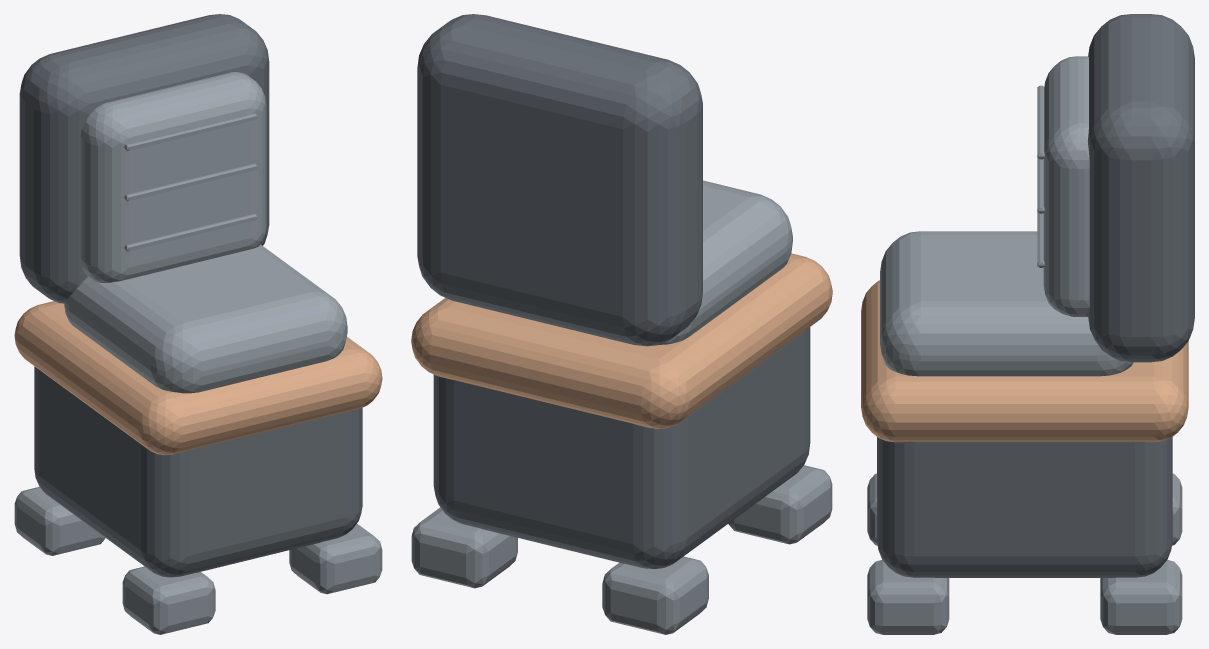
Rendered from dining_chair.glb.
The picture shows the model from 3 angles, left to right: view 1: azimuth 30°, elevation 25°; view 2: azimuth 150°, elevation 25°; view 3: azimuth 270°, elevation 25°; orthographic projection. The views are drawn at different scales.
Visible parts, largest first — view 1: shell_005, back_cushion_009, seat_cushion_007, back_shell_008, seat_frame_006, foot_002, foot_004, foot_001, stitch_012, stitch_010, stitch_011; view 2: back_shell_008, shell_005, seat_frame_006, seat_cushion_007, foot_001, foot_003, foot_002; view 3: shell_005, back_shell_008, seat_cushion_007, seat_frame_006, back_cushion_009, foot_004, foot_003, foot_001, foot_002, stitch_012.
Part boxes in pixels (x1,y1,x2,y2): shell_005: (34,366,362,577); back_cushion_009: (80,72,266,282); seat_cushion_007: (64,244,347,393); back_shell_008: (19,14,269,303); seat_frame_006: (14,301,382,455); foot_002: (122,566,215,634); foot_004: (289,524,382,594); foot_001: (14,487,105,555); stitch_012: (124,113,257,150); stitch_010: (124,213,257,251); stitch_011: (124,163,257,201); back_shell_008: (417,14,702,346); shell_005: (433,327,810,568); seat_frame_006: (411,253,832,428); seat_cushion_007: (659,180,792,344); foot_001: (602,556,708,634); foot_003: (411,507,517,588); foot_002: (728,465,832,544); shell_005: (877,437,1172,577); back_shell_008: (1087,14,1194,362); seat_cushion_007: (880,231,1133,376); seat_frame_006: (861,280,1188,442); back_cushion_009: (1043,56,1089,316); foot_004: (867,560,949,634); foot_003: (1100,560,1182,634); foot_001: (1172,473,1182,545); foot_002: (867,473,877,545); stitch_012: (1037,85,1044,159).
Size of the model in its own units: 0.475 by 0.91 by 0.53.
